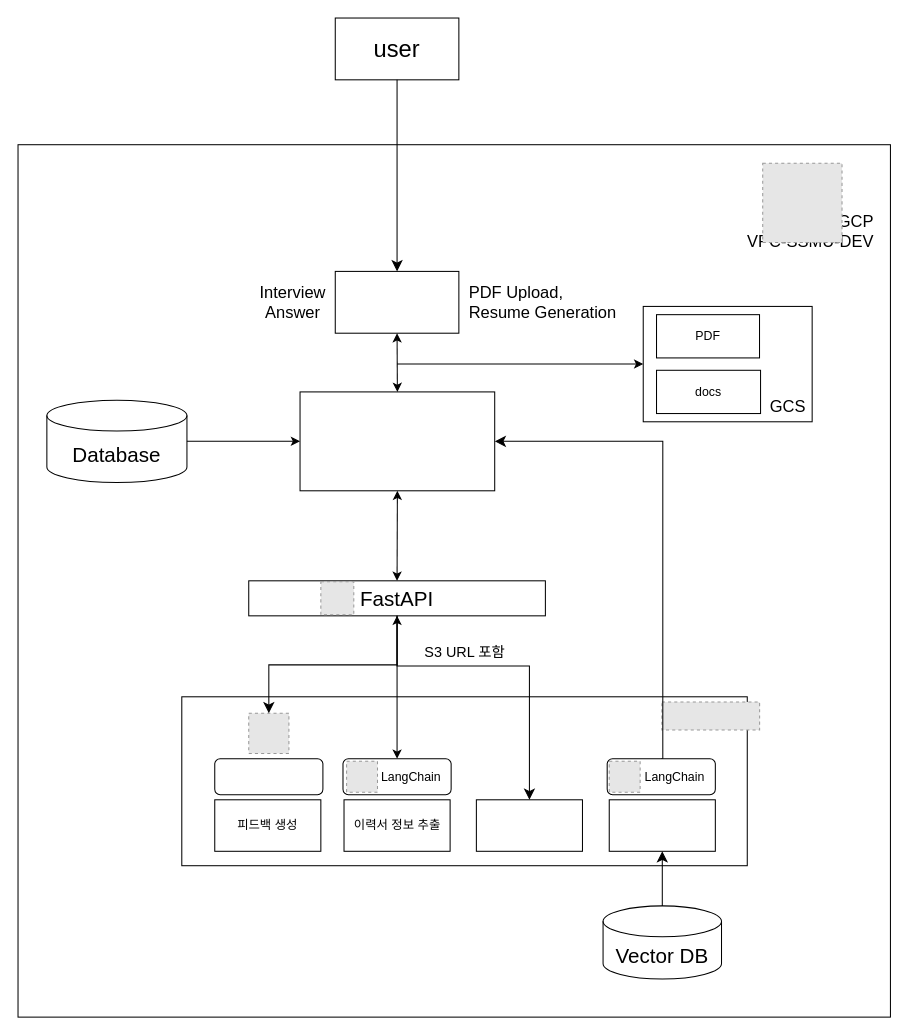
Image size: 908x1035. Some labels were removed from this diagram. Grey dashed boxes stand in for pictures. The centre of each missing label's shape, as x and y in pixels:
"Backend Service Logic, DB Access, User API" belongs at point (397, 441).
"Frontend" belongs at point (396, 301).
"LoRA Adapter" belongs at point (268, 776).
"기업 정보 요약" belongs at point (661, 825).
"이력서 초안 작성" belongs at point (528, 825).
